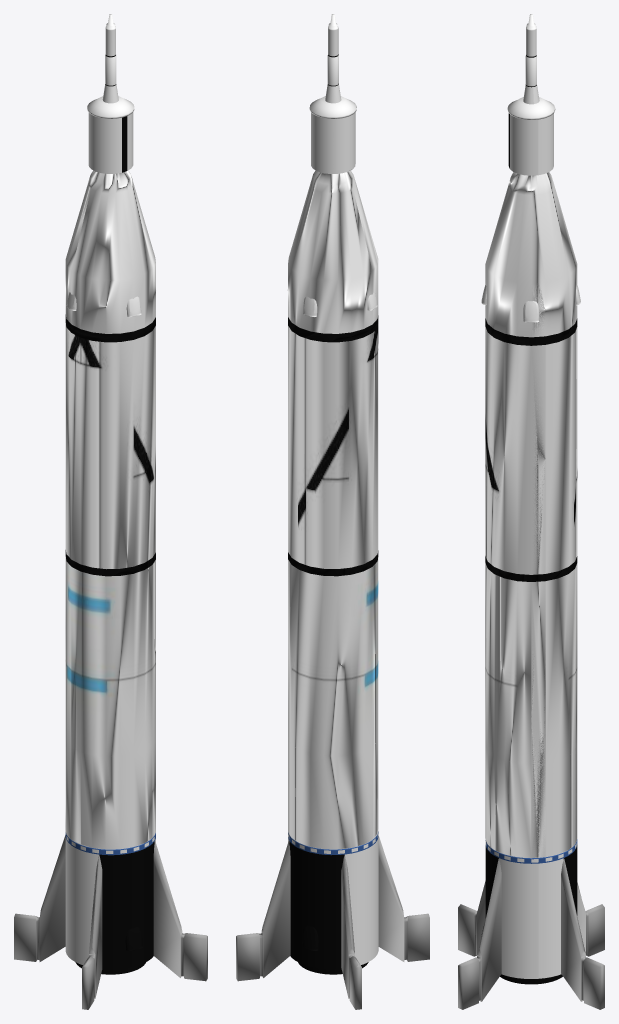
The model's file is jupiter-c-vehicle.glb.
3 renders of one model, left to right at view 1: azimuth 30°, elevation 25°; view 2: azimuth 150°, elevation 25°; view 3: azimuth 270°, elevation 25°, orthographic.
Visible parts, largest first — view 1: vehicle; view 2: vehicle; view 3: vehicle.
Boxes of the visible parts, x1,y1,x2,y2 form: vehicle: (14,14,207,1009); vehicle: (236,14,429,1009); vehicle: (458,14,604,1009).
Size of the model in its own units: 2.94 by 21.3 by 2.94.
1 material, 1 textured.
